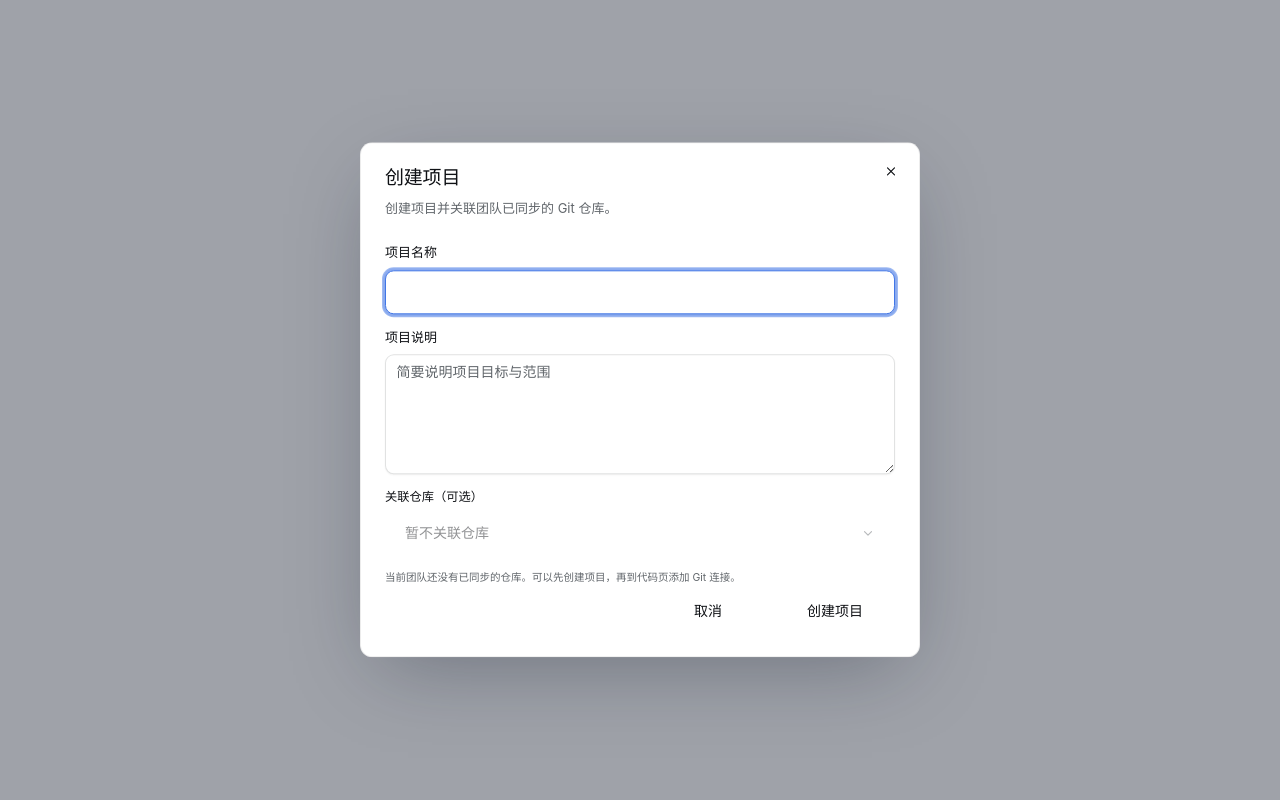
Scenario: ProjectForm › 空名称本地校验不提交
Click the button "创建项目": (835, 611) [775,589,895,633]
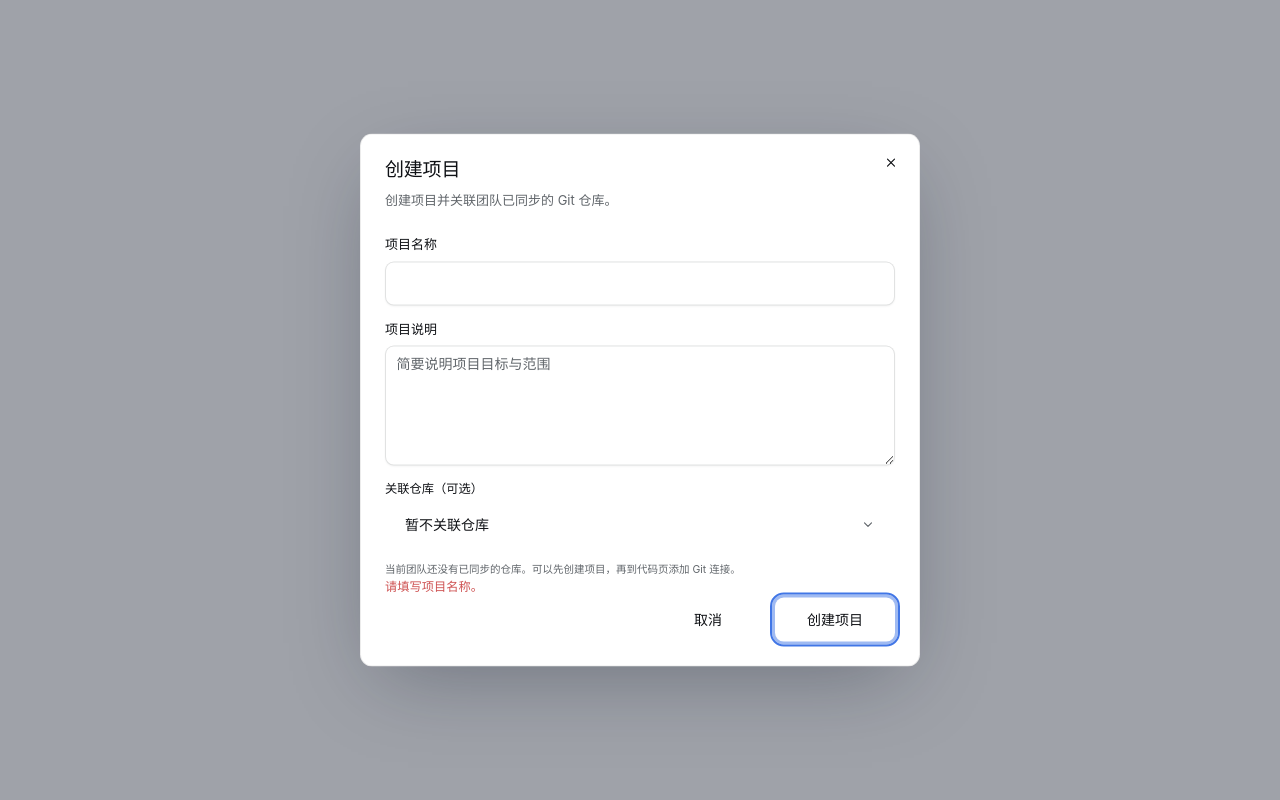
expect the message shows "请填写项目名称": met, box [385,579,483,594]
